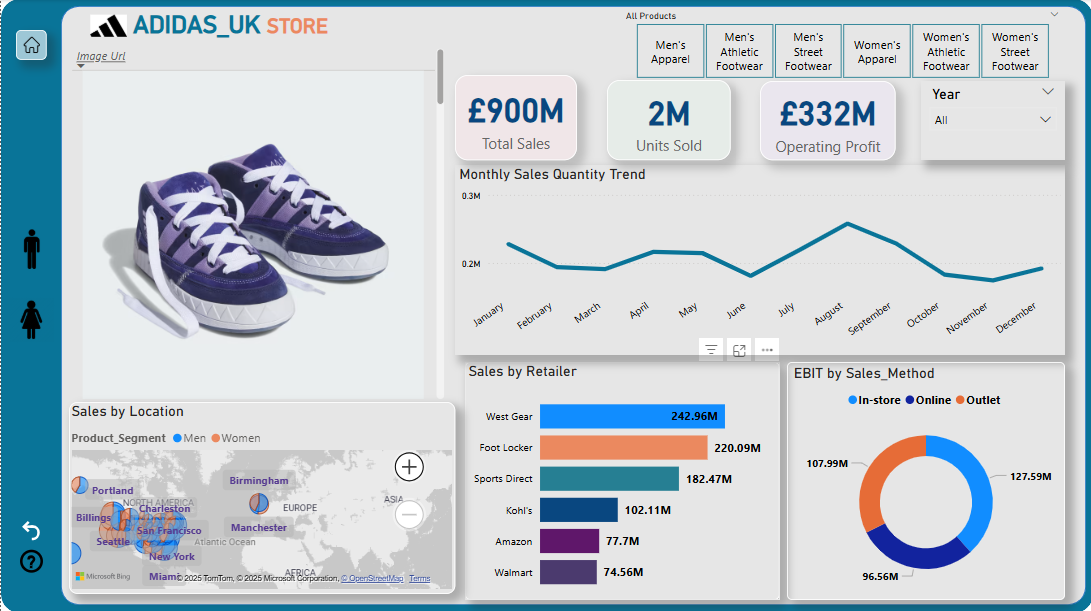

Layout of this report page (visuals, bound fields, positions):
{"tool":"powerbi","page":{"name":"ANALYSIS","canvas":[1280,720],"ordinal":1},"visuals":[{"type":"slicer","fields":{"Values":["product_data.Product"]},"box":[4.7,514.8,116.1,65.7],"z":0},{"type":"shape","box":[0,0,1280.5,720],"z":1000},{"type":"shape","box":[70.4,8.2,1202,702.4],"z":2000},{"type":"tableEx","fields":{"Values":["product_data.Image Url"]},"box":[79.7,55.1,443.3,417.5],"z":3000},{"type":"card","fields":{"Values":["Sum(sales_data.Total_Sales)"]},"box":[532.4,89.1,143.1,99.7],"z":4000},{"type":"textbox","box":[79.7,8.2,378.8,46.9],"z":5000},{"type":"image","box":[99.7,2.3,52.8,58.6],"z":6000},{"type":"card","fields":{"Values":["Sum(sales_data.Units_Sold)"]},"box":[710.6,95,145.4,93.8],"z":7000},{"type":"card","fields":{"Values":["Sum(sales_data.Operating_Profit)"]},"box":[890,96.2,159.5,92.6],"z":8000},{"type":"slicer","fields":{"Values":["Date.Date.Variation.Date Hierarchy.Year"]},"box":[1078.8,96.2,168.9,92.6],"z":9000},{"type":"clusteredBarChart","fields":{"Category":["sales_data.Retailer"],"Y":["Sum(sales_data.Total_Sales)"]},"box":[544.1,425.7,369.4,279.1],"z":10000},{"type":"lineChart","title":"Monthly Sales Quantity Trend","fields":{"Category":["Date.Date.Variation.Date Hierarchy.Month"],"Y":["Sum(sales_data.Units_Sold)"]},"box":[532.4,194.7,715.3,222.8],"z":11000},{"type":"map","title":"Sales by Location","fields":{"Category":["location_data.City"],"Size":["Sum(sales_data.Total_Sales)"],"Series":["product_data.Product_Segment"]},"box":[79.7,472.6,452.6,225.1],"z":12000},{"type":"donutChart","fields":{"Category":["sales_data.Sales_Method"],"Y":["Sum(sales_data.Operating_Profit)"]},"box":[921.7,425.7,326,279.1],"z":13000},{"type":"image","box":[17.6,36.4,36.4,35.2],"z":14000},{"type":"image","box":[4.7,263.8,63.3,58.6],"z":15000},{"type":"image","box":[4.7,344.8,63.3,63.3],"z":16000},{"type":"slicer","fields":{"Values":["product_data.Product"]},"box":[724.7,9.4,523,89.1],"z":17000},{"type":"actionButton","box":[17.6,607.4,36.4,31.7],"z":17001},{"type":"actionButton","box":[17.6,639.1,36.4,39.9],"z":17002}]}

Visuals, with their boxes on the page's 1280x720 design canvas (x1, y1, x2, y2). These are canvas units, not pixel positions in the 1091x611 screenshot, which may show the page scaled, cropped or inside an application window:
slicer - product_data.Product: region(5, 515, 121, 580)
shape: region(0, 0, 1280, 720)
shape: region(70, 8, 1272, 711)
tableEx - product_data.Image Url: region(80, 55, 523, 473)
card - Sum(sales_data.Total_Sales): region(532, 89, 676, 189)
textbox: region(80, 8, 458, 55)
image: region(100, 2, 152, 61)
card - Sum(sales_data.Units_Sold): region(711, 95, 856, 189)
card - Sum(sales_data.Operating_Profit): region(890, 96, 1050, 189)
slicer - Date.Date.Variation.Date Hierarchy.Year: region(1079, 96, 1248, 189)
clusteredBarChart - sales_data.Retailer x Sum(sales_data.Total_Sales): region(544, 426, 914, 705)
"Monthly Sales Quantity Trend" lineChart: region(532, 195, 1248, 418)
"Sales by Location" map: region(80, 473, 532, 698)
donutChart - sales_data.Sales_Method x Sum(sales_data.Operating_Profit): region(922, 426, 1248, 705)
image: region(18, 36, 54, 72)
image: region(5, 264, 68, 322)
image: region(5, 345, 68, 408)
slicer - product_data.Product: region(725, 9, 1248, 98)
actionButton: region(18, 607, 54, 639)
actionButton: region(18, 639, 54, 679)
